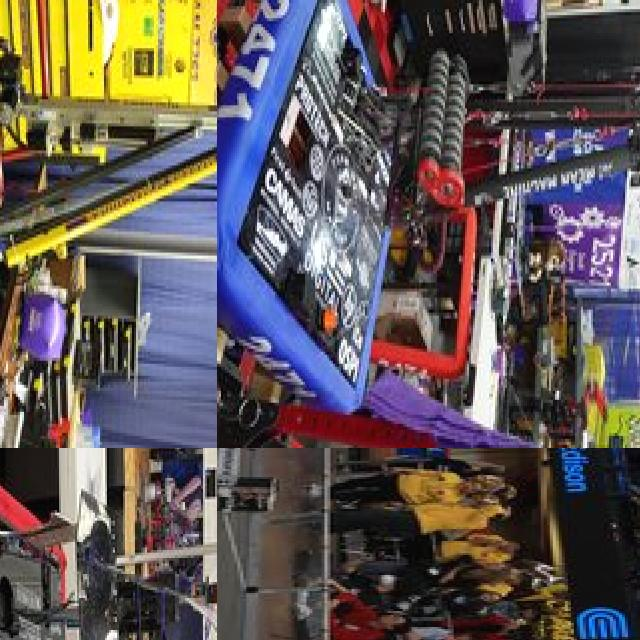FRC-Robots: (217, 0, 640, 406), (0, 0, 217, 448), (0, 448, 217, 640), (217, 448, 347, 534)
